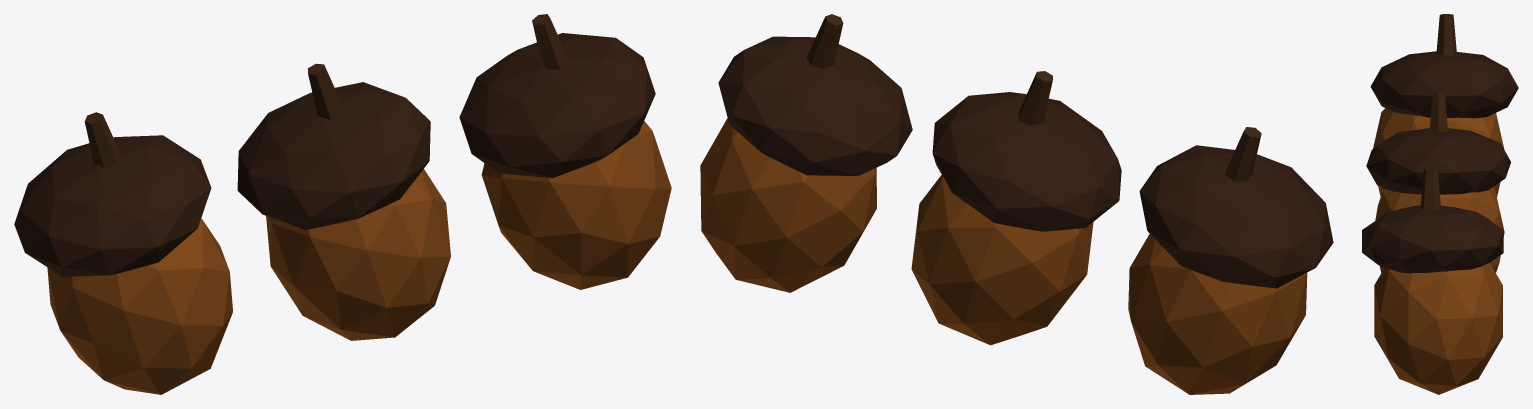
The model's file is pile-treeSeed-3.obj.
The picture shows the model from 3 angles, left to right: view 1: azimuth 30°, elevation 25°; view 2: azimuth 150°, elevation 25°; view 3: azimuth 270°, elevation 25°; orthographic projection. The views are drawn at different scales.
Visible parts, largest first — view 1: pile-treeSeed-3; view 2: pile-treeSeed-3; view 3: pile-treeSeed-3.
Boxes of the visible parts, <box> form: pile-treeSeed-3: <box>14,14,671,394</box>; pile-treeSeed-3: <box>700,14,1333,394</box>; pile-treeSeed-3: <box>1362,14,1518,394</box>.
Size of the model in its own units: 0.7737 by 0.3302 by 0.2318.
1 material, 1 textured.
